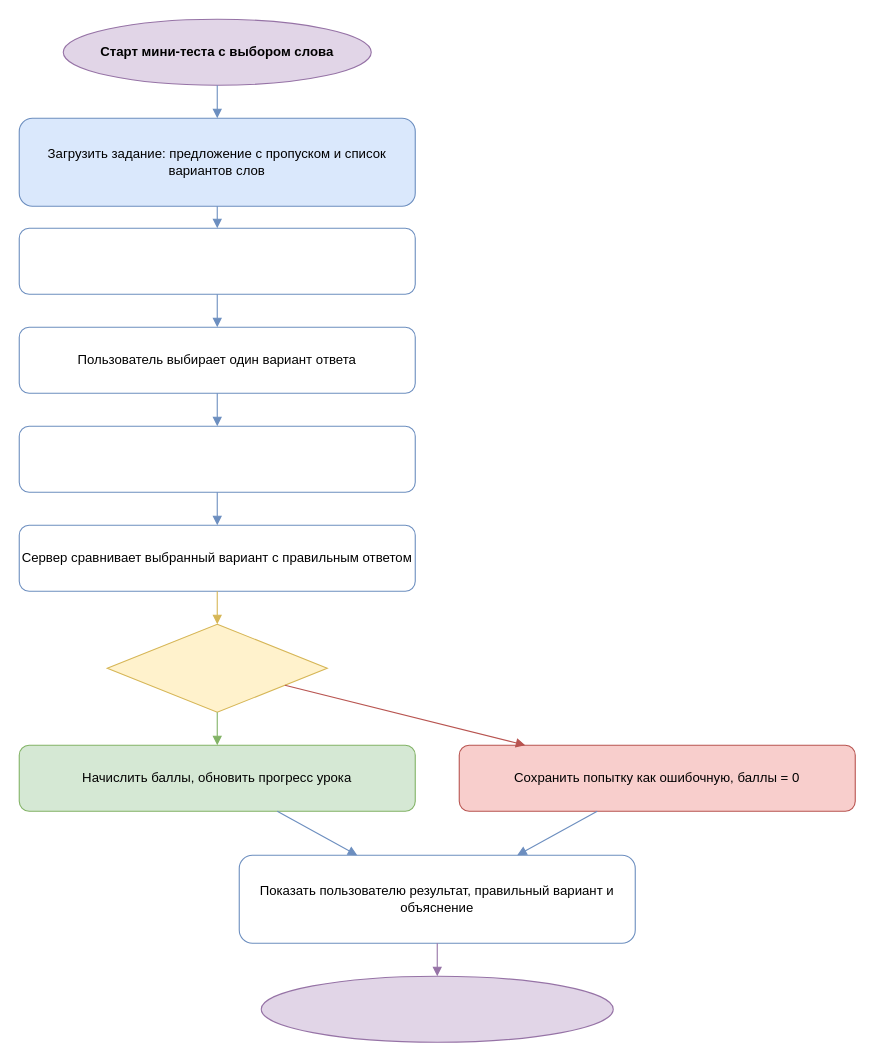
The diagram is 875 pixels wide and 1062 high, and some of its shapes have lost their labels. The shapes that lost their labels are listed below. From the top down, each one's centre as x and y in pixels, then its label:
pixel 216 260: Показать предложение и варианты (кнопки/радио)
pixel 216 458: Отправить выбранный вариант на сервер
pixel 216 667: Ответ правильный?
pixel 436 1008: Мини-тест завершён или переход к следующему заданию
